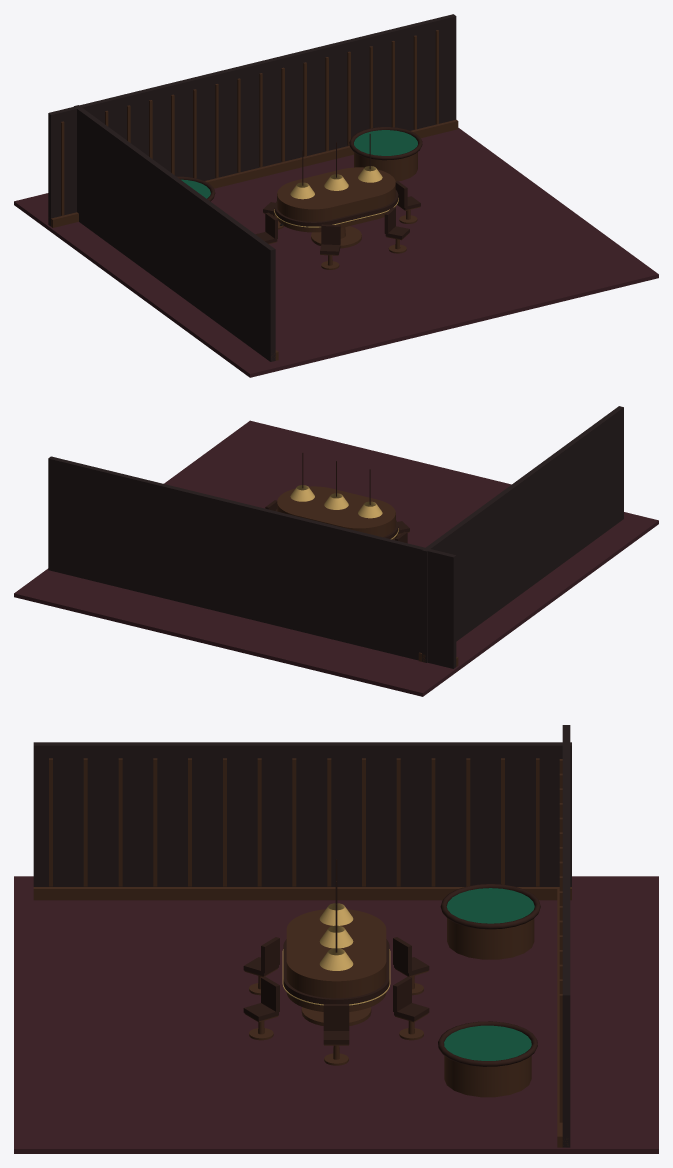
File: stackchips-poker-room.glb
3 renders of one model, top to bottom at view 1: azimuth 30°, elevation 25°; view 2: azimuth 150°, elevation 25°; view 3: azimuth 270°, elevation 25°, orthographic. The views are drawn at different scales.
Visible parts, largest first — view 1: floor, wall_back_face, wall_left_face, wall_back, table_skirt, wall_back_skirting, far_table_1_top, far_table_1_skirt, table_rail, far_table_1_rail; view 2: wall_back_face, floor, wall_left_face, table_skirt; view 3: floor, wall_left_face, wall_left, table_skirt, wall_left_skirting, wall_back_face, far_table_1_skirt, far_table_0_skirt, far_table_0_top, far_table_1_top, wall_back, far_table_0_rail (+4 smaller).
Boxes of the visible parts, left/top/right/bottom form: floor: left=14, top=128, right=658, bottom=377; wall_back_face: left=48, top=14, right=456, bottom=226; wall_left_face: left=74, top=105, right=275, bottom=361; wall_back: left=61, top=30, right=438, bottom=215; table_skirt: left=277, top=167, right=395, bottom=232; wall_back_skirting: left=48, top=119, right=458, bottom=227; far_table_1_top: left=354, top=130, right=417, bottom=155; far_table_1_skirt: left=354, top=152, right=417, bottom=181; table_rail: left=274, top=190, right=398, bottom=227; far_table_1_rail: left=349, top=127, right=422, bottom=160; wall_back_face: left=48, top=456, right=456, bottom=668; floor: left=14, top=420, right=658, bottom=696; wall_left_face: left=422, top=406, right=623, bottom=662; table_skirt: left=277, top=486, right=395, bottom=539; floor: left=14, top=876, right=658, bottom=1153; wall_left_face: left=33, top=742, right=571, bottom=886; wall_left: left=49, top=758, right=539, bottom=886; table_skirt: left=286, top=909, right=386, bottom=1011; wall_left_skirting: left=33, top=887, right=571, bottom=900; wall_back_face: left=562, top=725, right=570, bottom=1147; far_table_1_skirt: left=444, top=1055, right=531, bottom=1097; far_table_0_skirt: left=447, top=918, right=534, bottom=959; far_table_0_top: left=446, top=888, right=534, bottom=923; far_table_1_top: left=444, top=1025, right=531, bottom=1060; wall_back: left=559, top=759, right=562, bottom=1122; far_table_0_rail: left=440, top=884, right=540, bottom=929.
Size of the model in its own units: 11.5 by 3.1 by 11.5.
